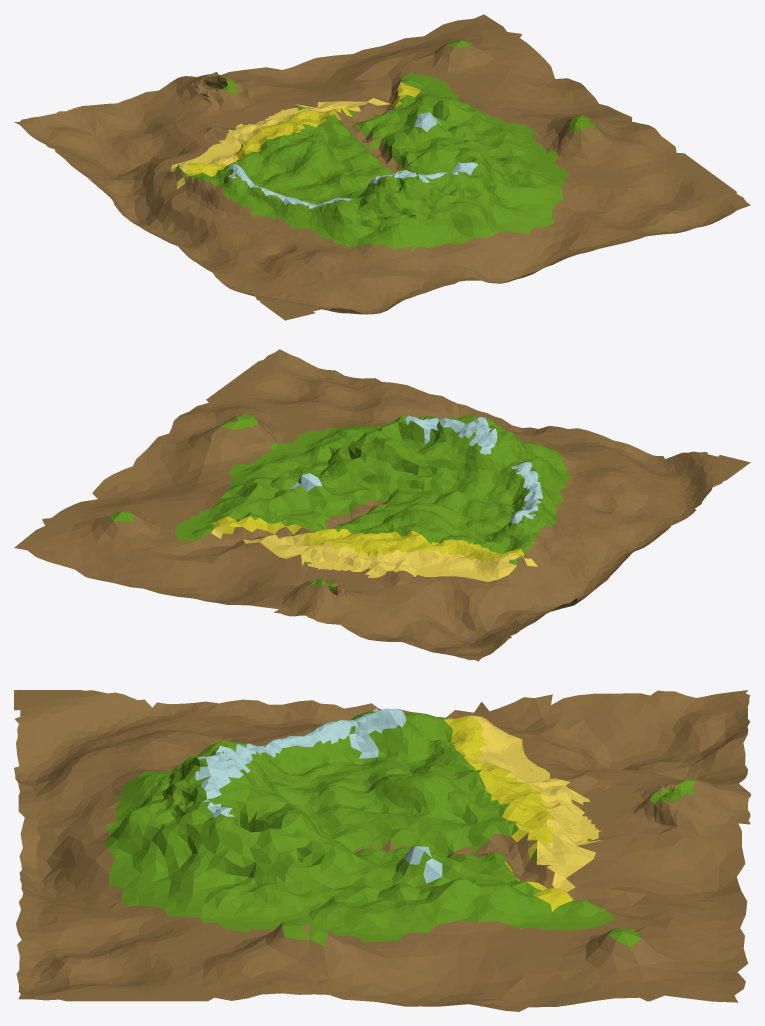
Rendered from terrain3.fbx.
3 renders of one model, top to bottom at view 1: azimuth 30°, elevation 25°; view 2: azimuth 150°, elevation 25°; view 3: azimuth 270°, elevation 25°, orthographic. The views are drawn at different scales.
Parts seen in each view (by area): view 1: Grid; view 2: Grid; view 3: Grid.
Boxes of the visible parts, x1=… form: Grid: x1=14, y1=14, x2=750, y2=320; Grid: x1=14, y1=349, x2=750, y2=661; Grid: x1=14, y1=690, x2=750, y2=1011.
Bounding box in the file's own units: 2000 × 309 × 2002.
